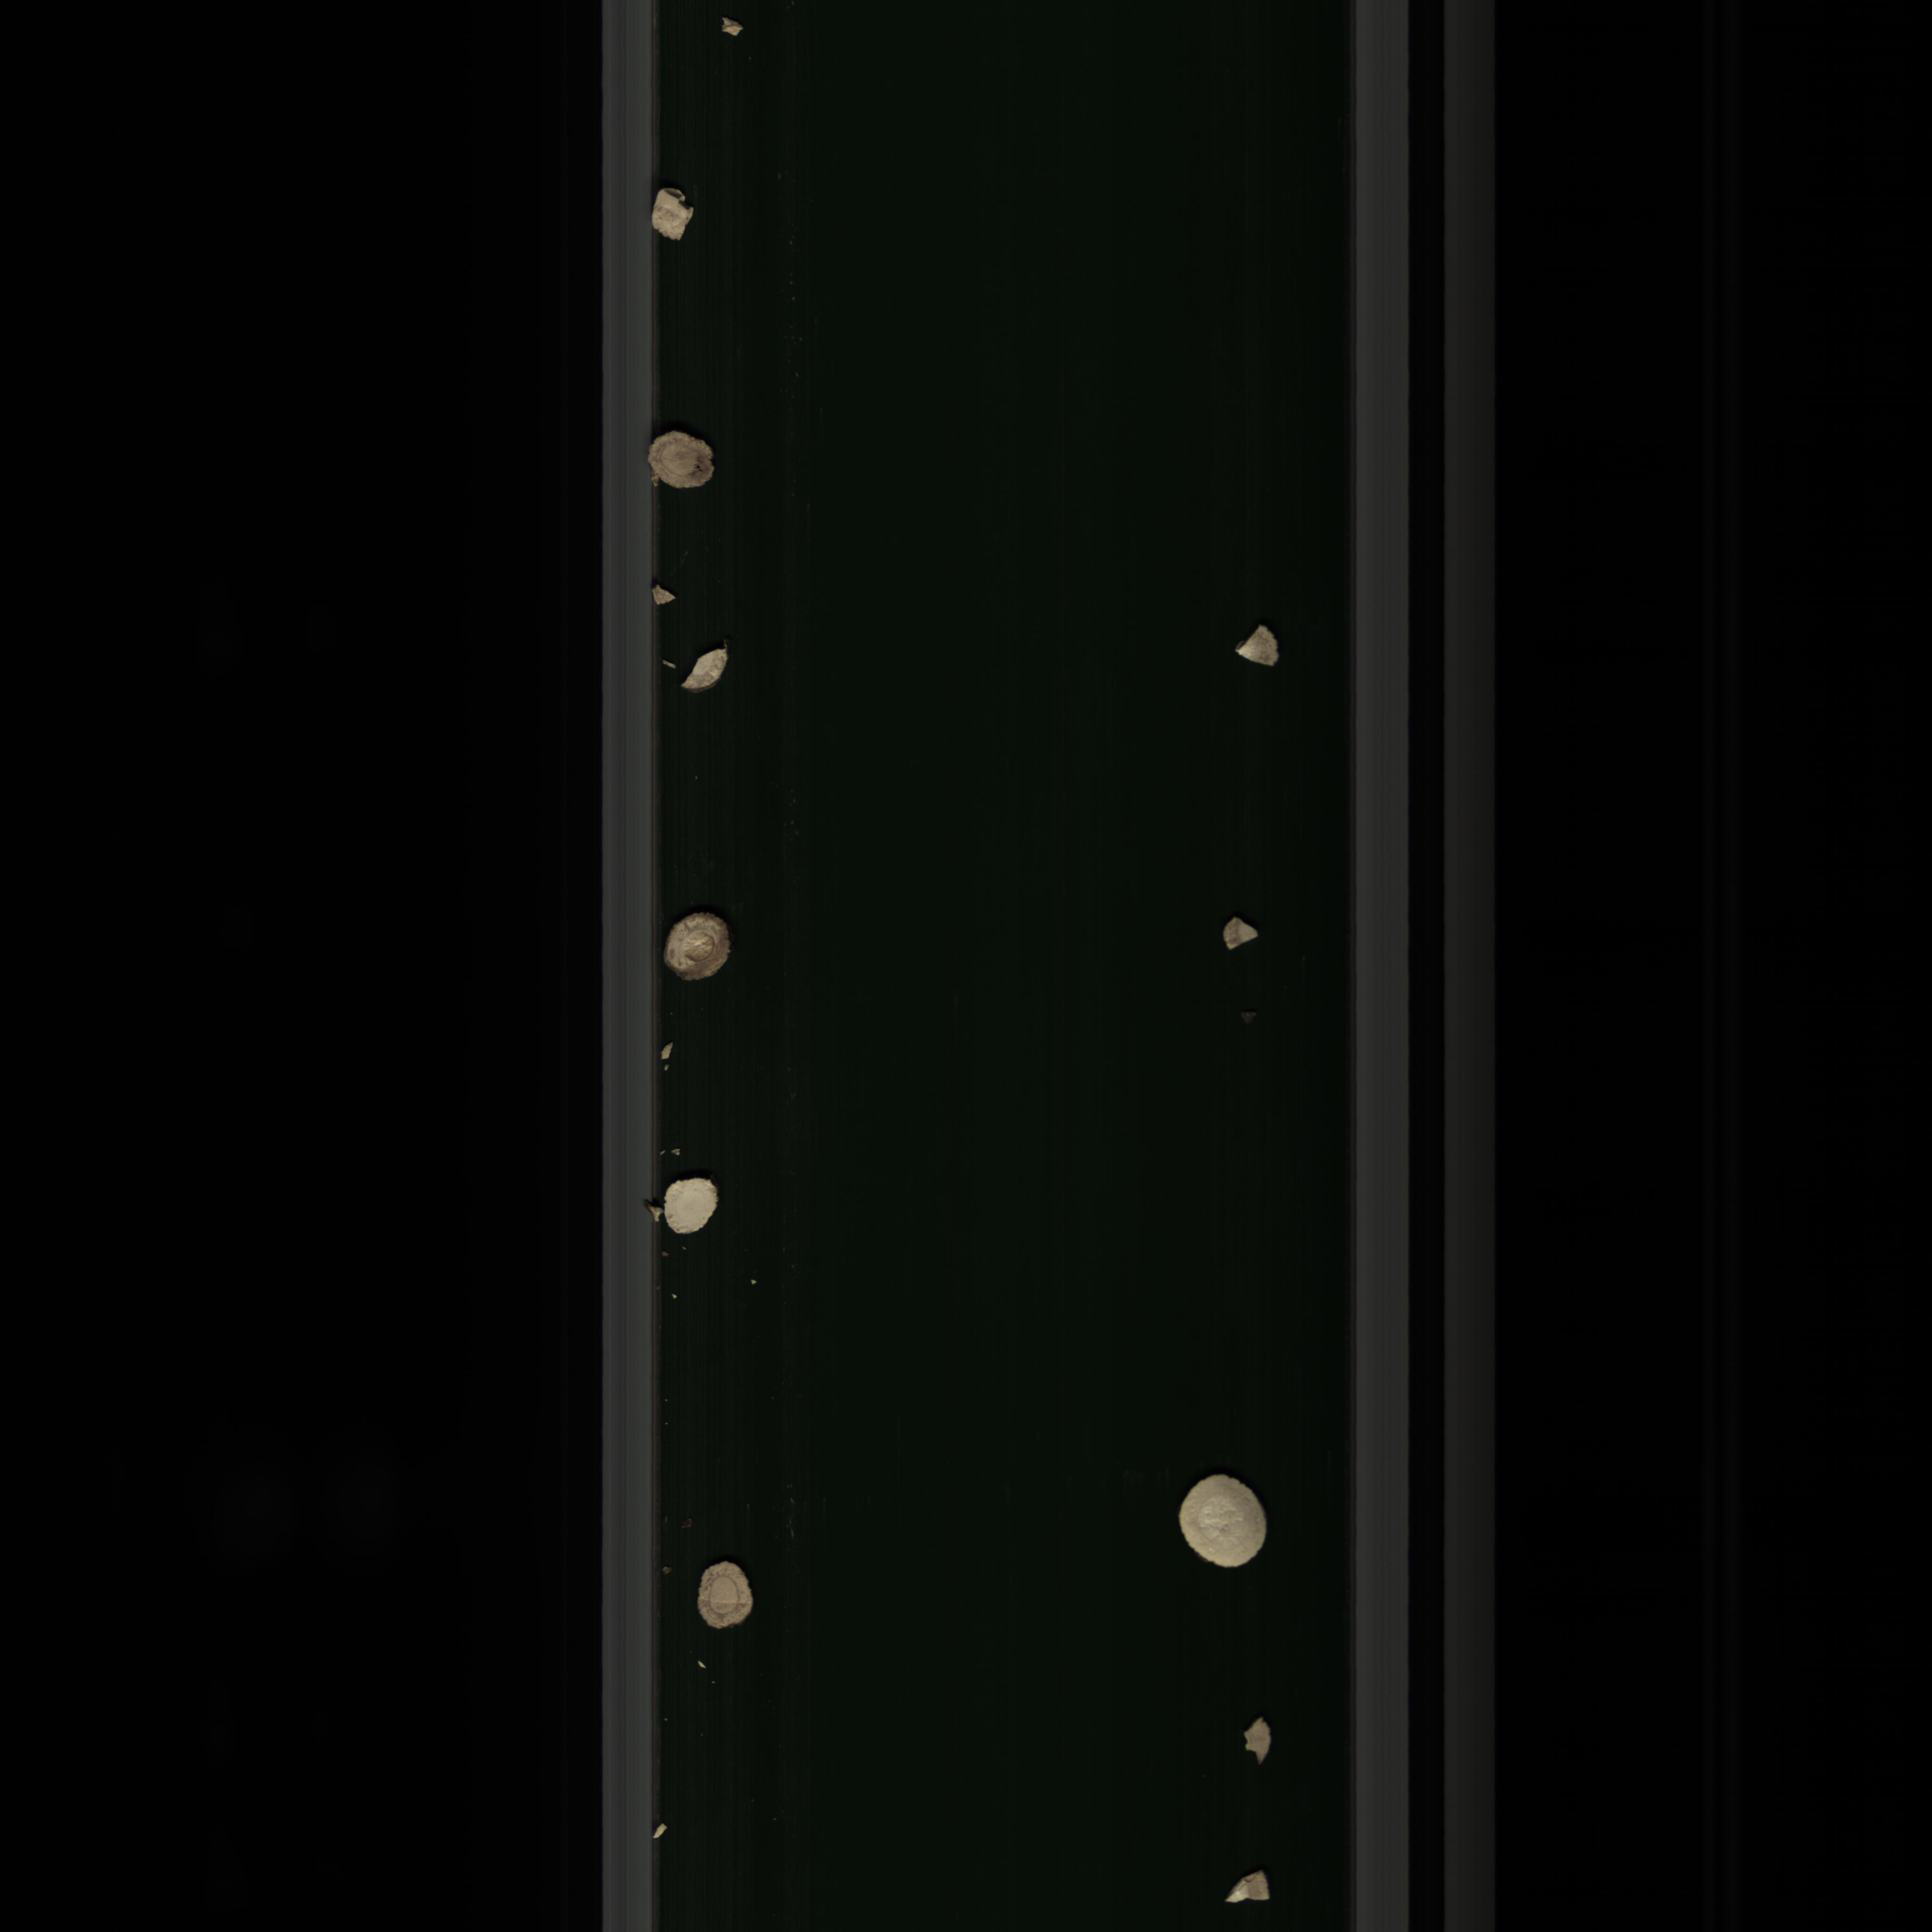debris: (646, 180, 706, 249), (672, 644, 741, 699), (1219, 628, 1295, 669), (1217, 1867, 1292, 1907), (1219, 908, 1272, 961), (1233, 1714, 1284, 1769), (655, 587, 679, 612)
moldy: (660, 901, 738, 989), (642, 426, 725, 506)
